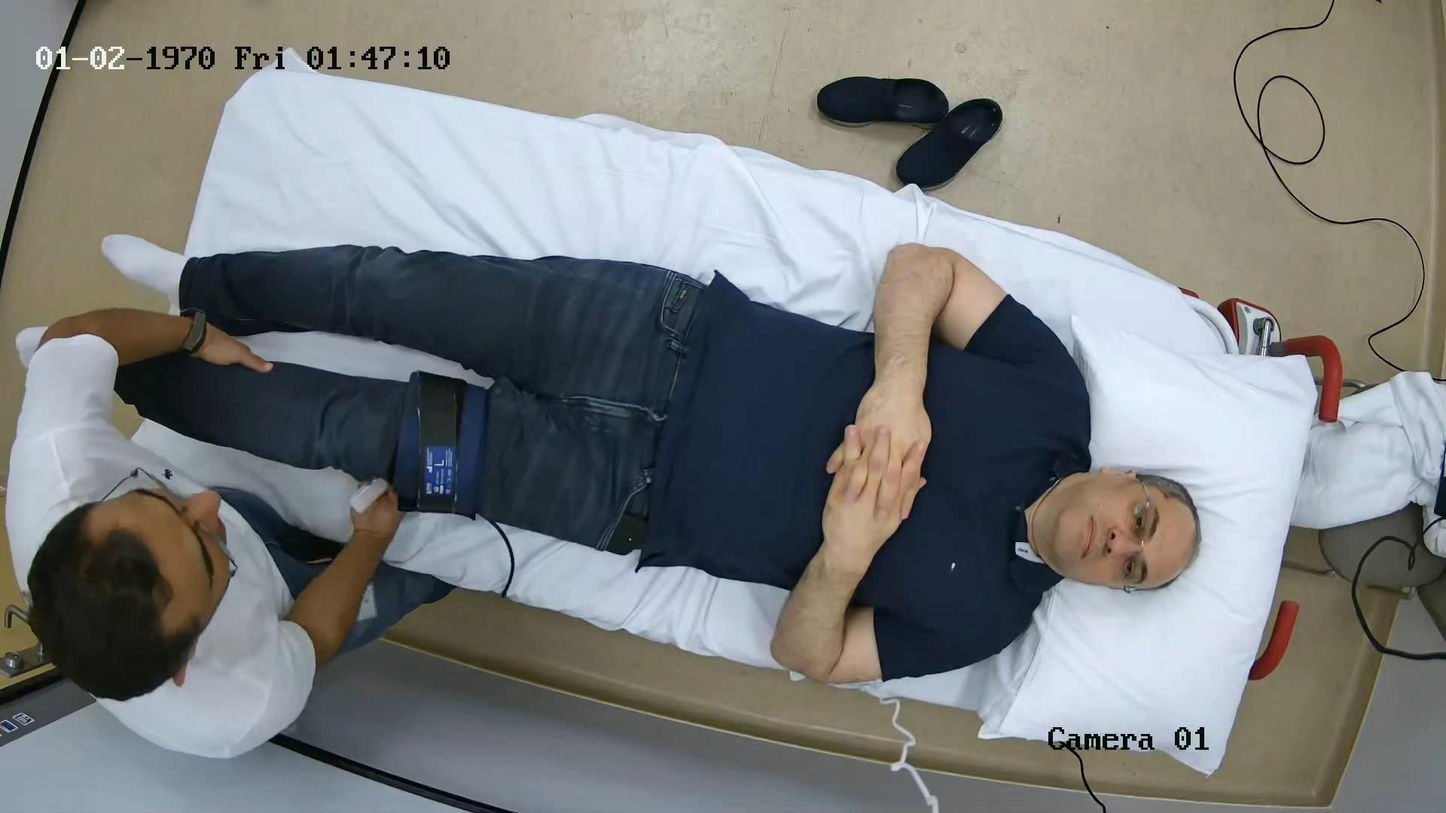bed: (134, 61, 1341, 772)
patient: (116, 245, 1199, 683)
prepstick: (349, 479, 388, 512)
tourniquet: (397, 373, 487, 516)
